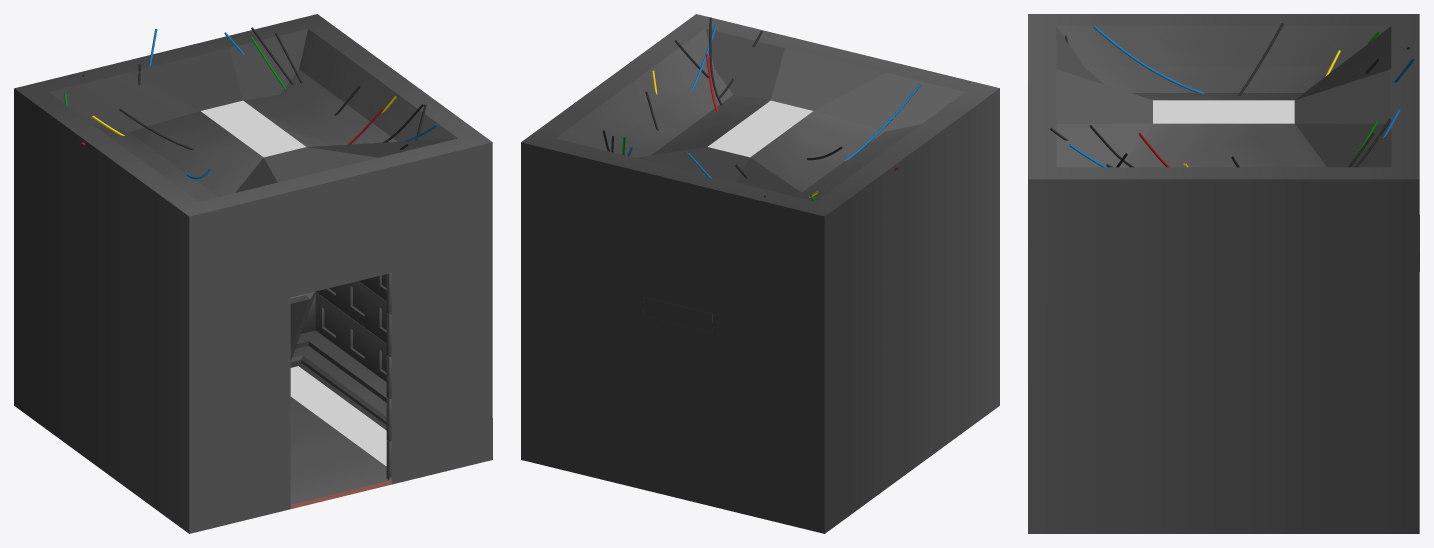
Rendered from Room3.fbx.
The picture shows the model from 3 angles, left to right: view 1: azimuth 30°, elevation 25°; view 2: azimuth 150°, elevation 25°; view 3: azimuth 270°, elevation 25°; orthographic projection. The views are drawn at different scales.
Parts seen in each view (by area): view 1: room, wall_panels, cables_ceiling, etabli; view 2: room, cables_ceiling; view 3: room, cables_ceiling.
Part boxes in pixels (x1=…): room: x1=14, y1=14, x2=492, y2=533; wall_panels: x1=301, y1=273, x2=391, y2=479; cables_ceiling: x1=64, y1=27, x2=436, y2=179; etabli: x1=290, y1=291, x2=316, y2=360; room: x1=521, y1=14, x2=999, y2=533; cables_ceiling: x1=602, y1=17, x2=921, y2=201; room: x1=1028, y1=14, x2=1419, y2=533; cables_ceiling: x1=1050, y1=23, x2=1414, y2=167.
Bounding box in the file's own units: 303 × 334 × 300.
